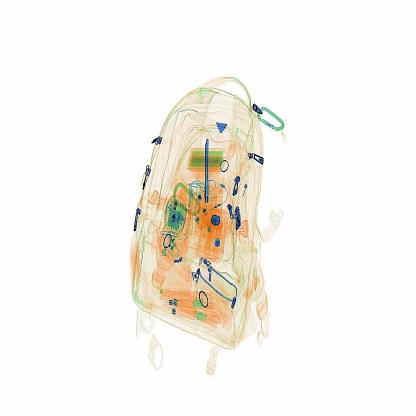pliers: (199, 131, 221, 208)
